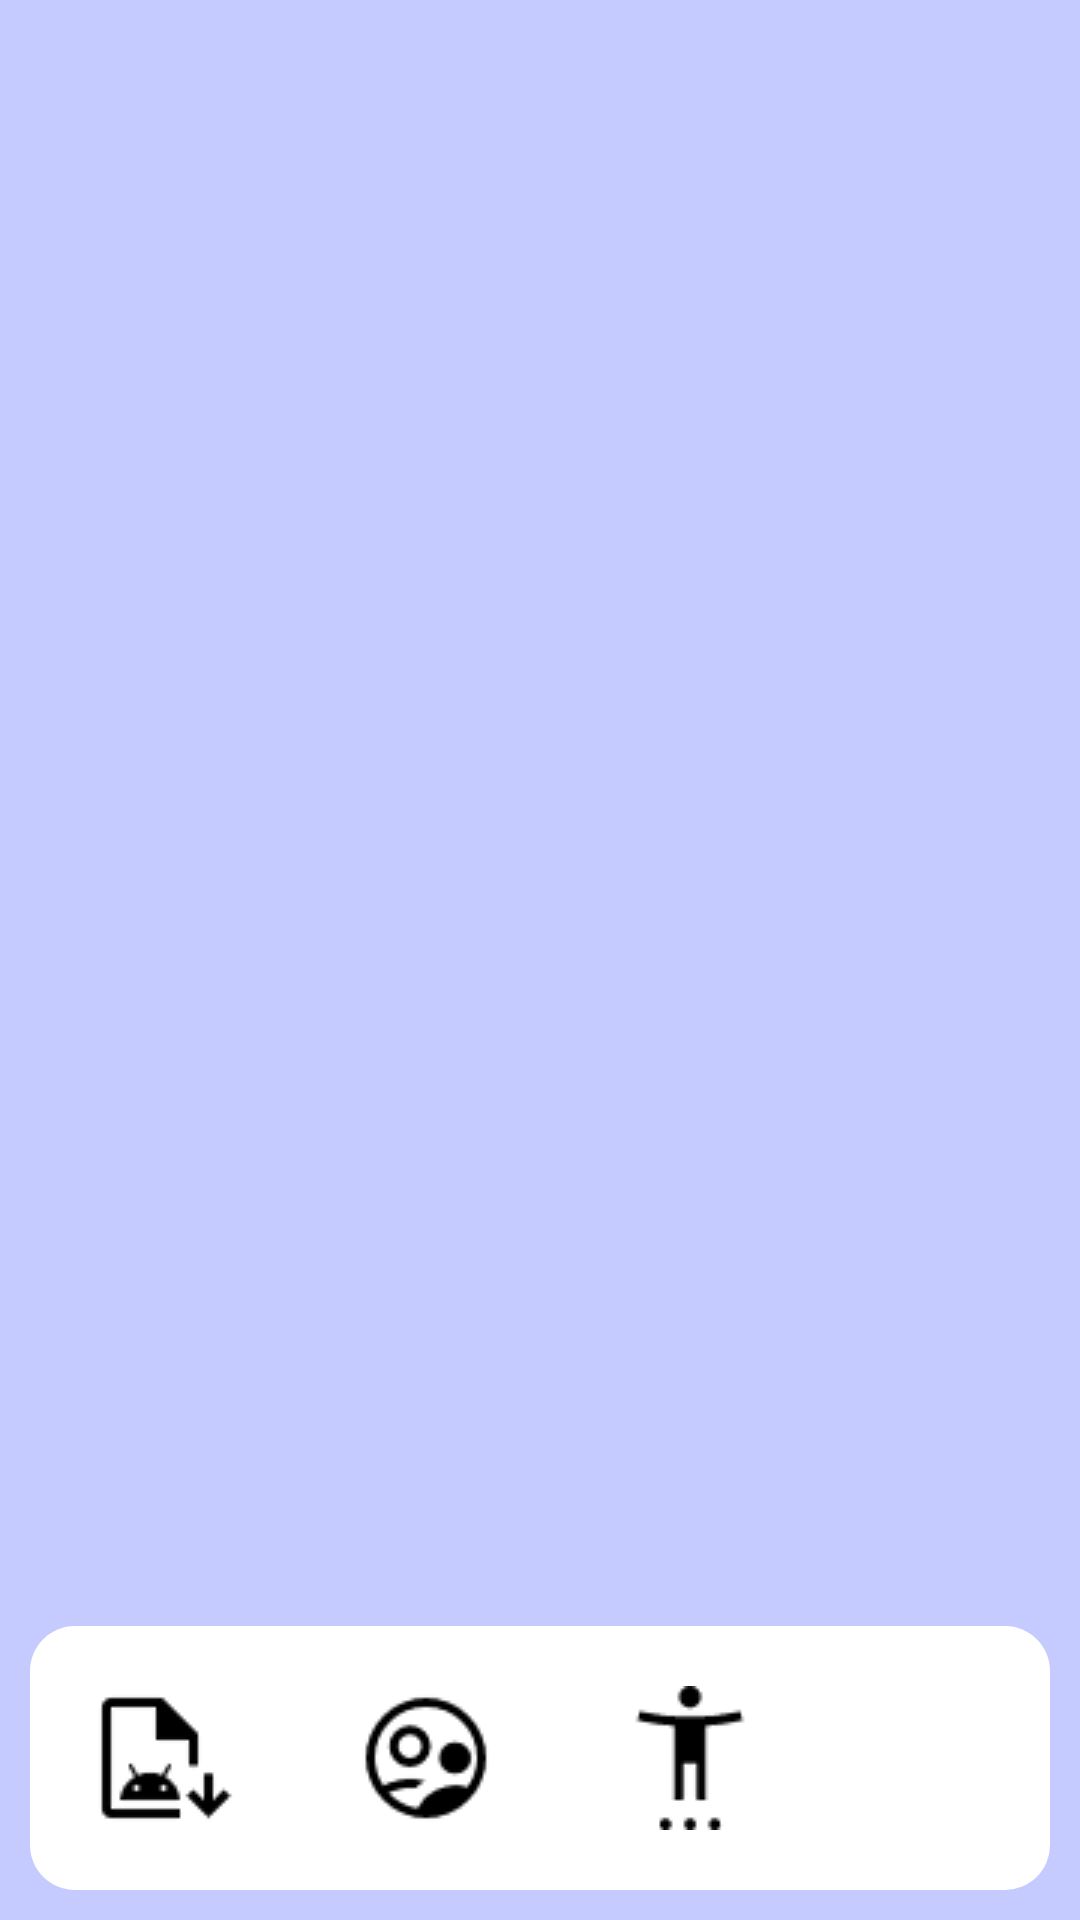

Point at icon controls on the screen. Image size 1080×1920, points as (x=x, y=y).
settings accessibility: (x=690, y=1758)
supervised user: (x=426, y=1758)
